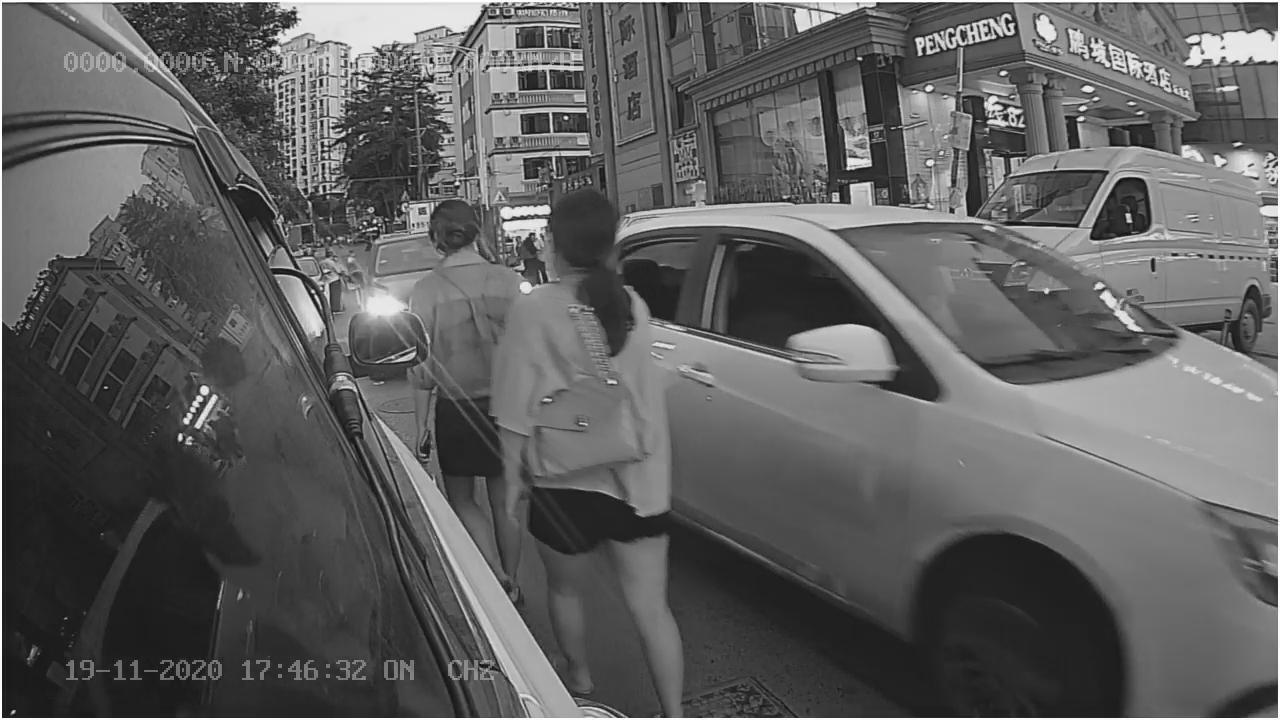person: (493, 189, 675, 601)
